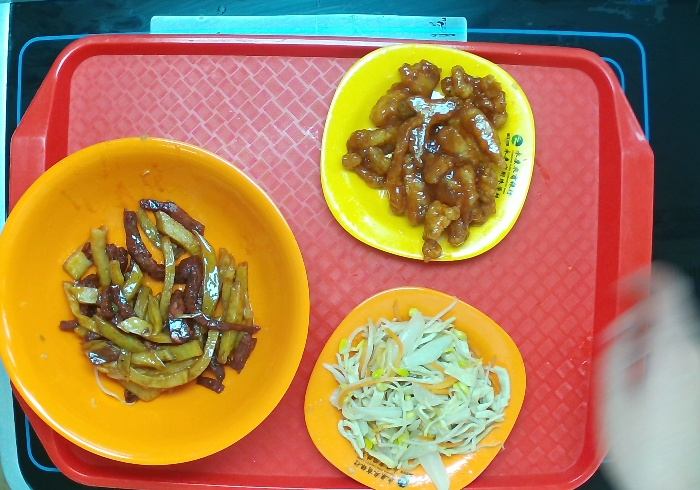YKMZ-Huang_Se_Fang_Die: (322, 43, 539, 262)
YKMZ-Ju_Se_Fang_Die: (303, 285, 529, 490)
YKMZ-Ju_Se_Tang_Wan: (1, 136, 310, 468)
